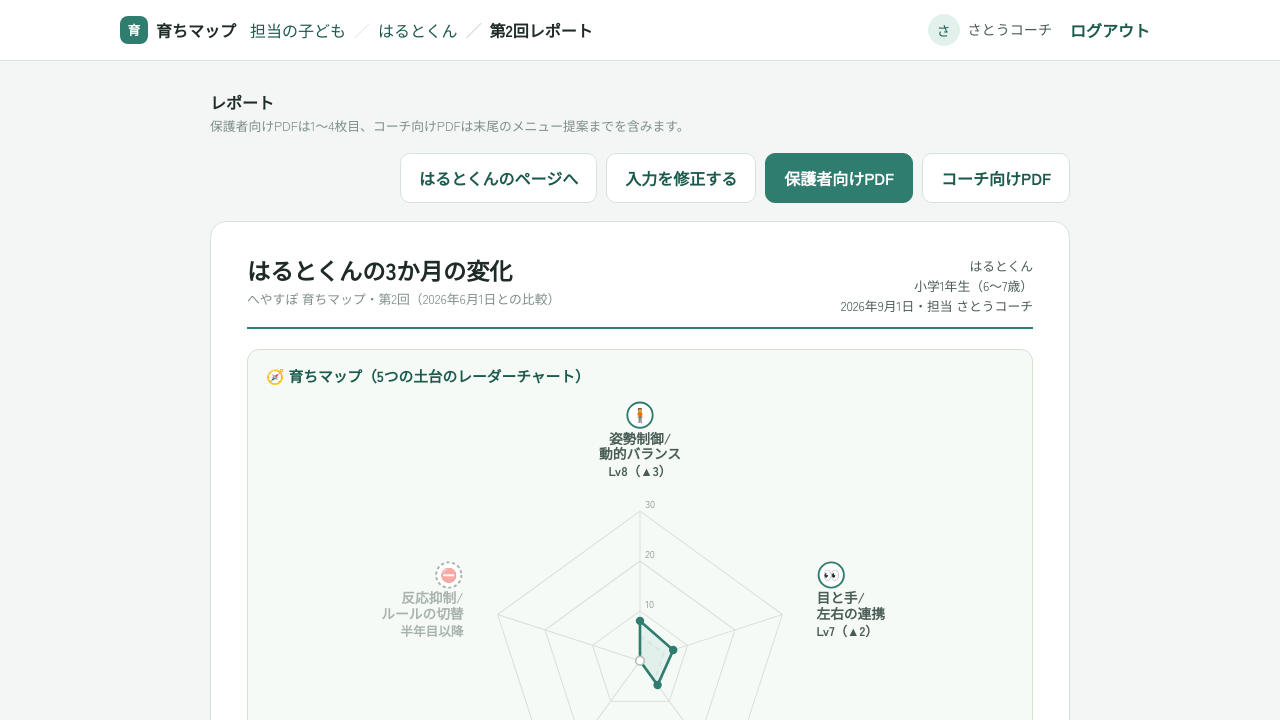
Test case: レポート › PDFを作れなかったときは理由と再試行を通知する
The width and height of the screenshot is (1280, 720).
Click the button "保護者向けPDF" at (839, 178), box [765,152,913,203]
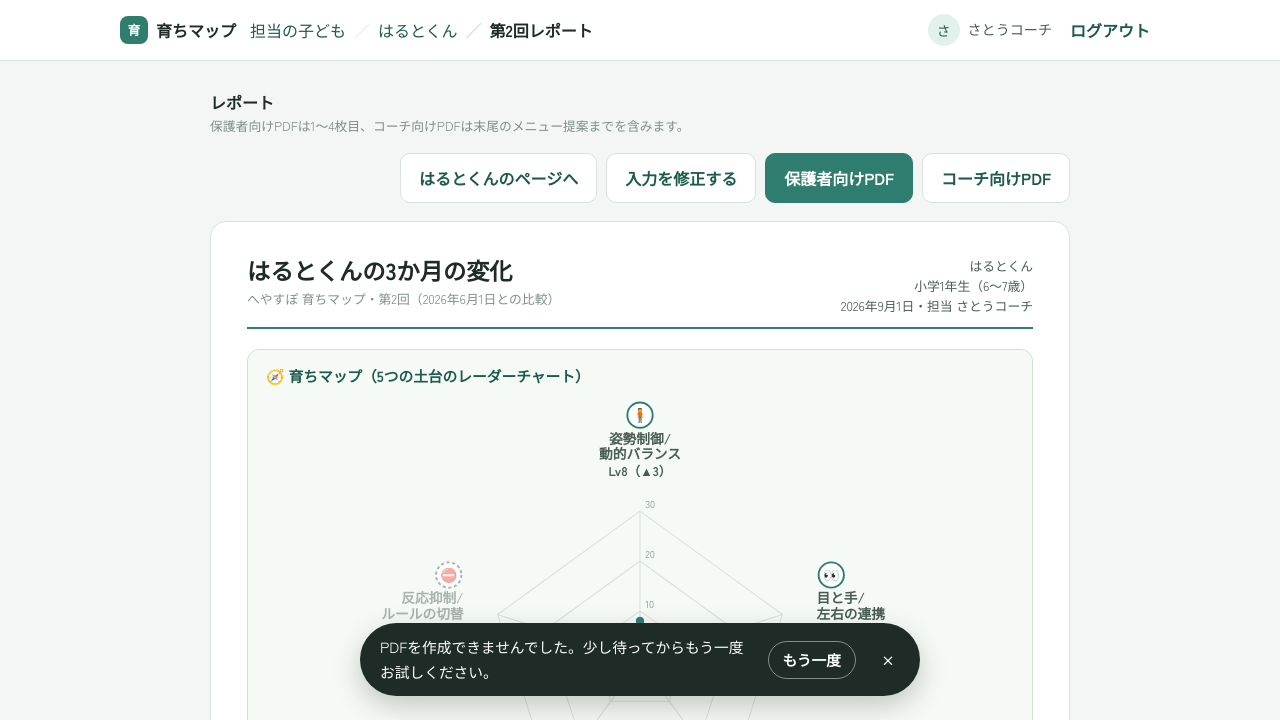
Check: the button "コーチ向けPDF" is enabled, box [922,152,1070,203]
Check: the text "PDFを作成できませんでした。少し待ってからもう一度お試しください。" is shown, box [380,635,754,684]
Check: the button "もう一度" is shown, box [768,641,856,679]
